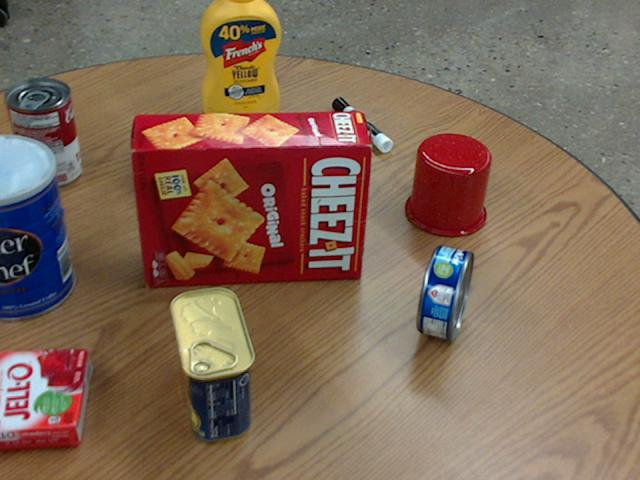cracker_box: (133, 111, 370, 285)
gelatin_box: (0, 348, 89, 449)
large_marker: (332, 96, 392, 151)
master_chef_can: (0, 135, 73, 320)
mug: (403, 133, 490, 236)
mustard_bottle: (200, 0, 280, 121)
potted_meat_can: (168, 286, 251, 440)
sugar_box: (139, 119, 299, 191)
tomato_soup_can: (5, 77, 81, 186)
tuna_fish_can: (417, 245, 472, 339)
